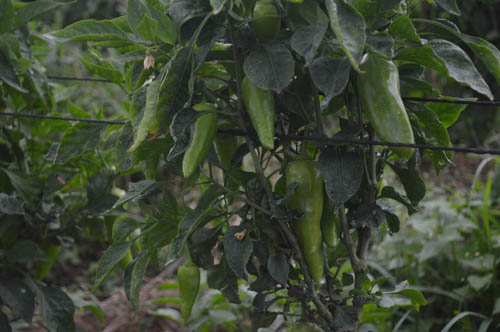ChiliPepper: (355, 46, 419, 157), (283, 156, 326, 256), (180, 98, 222, 183), (239, 64, 277, 150), (166, 264, 204, 324), (245, 2, 283, 38), (319, 201, 341, 253), (303, 249, 328, 281)
